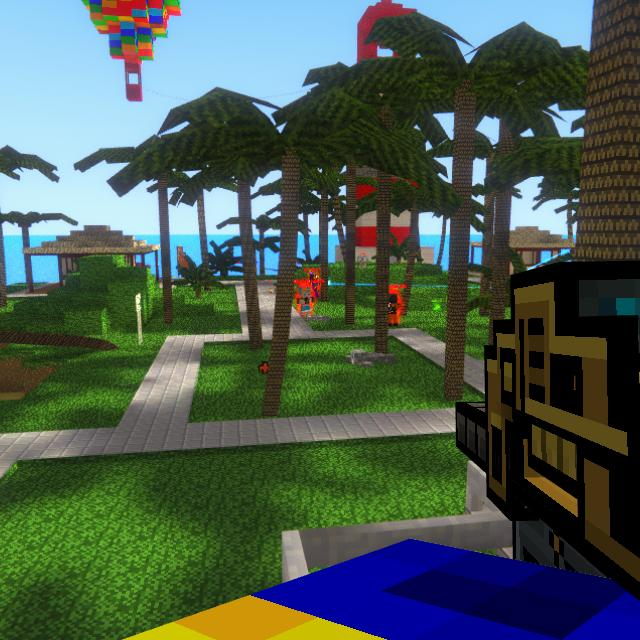Enemy: (296, 288, 314, 317), (388, 294, 401, 326), (309, 272, 320, 297)
